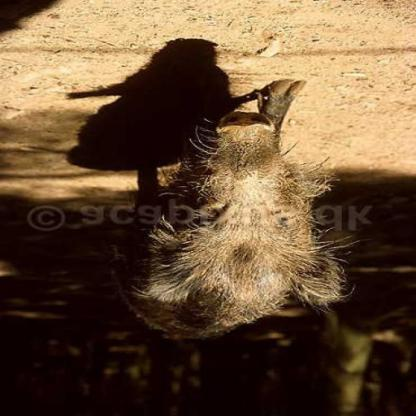boar: (112, 53, 388, 332)
